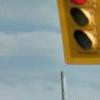Traffic light: (50, 1, 100, 63)
